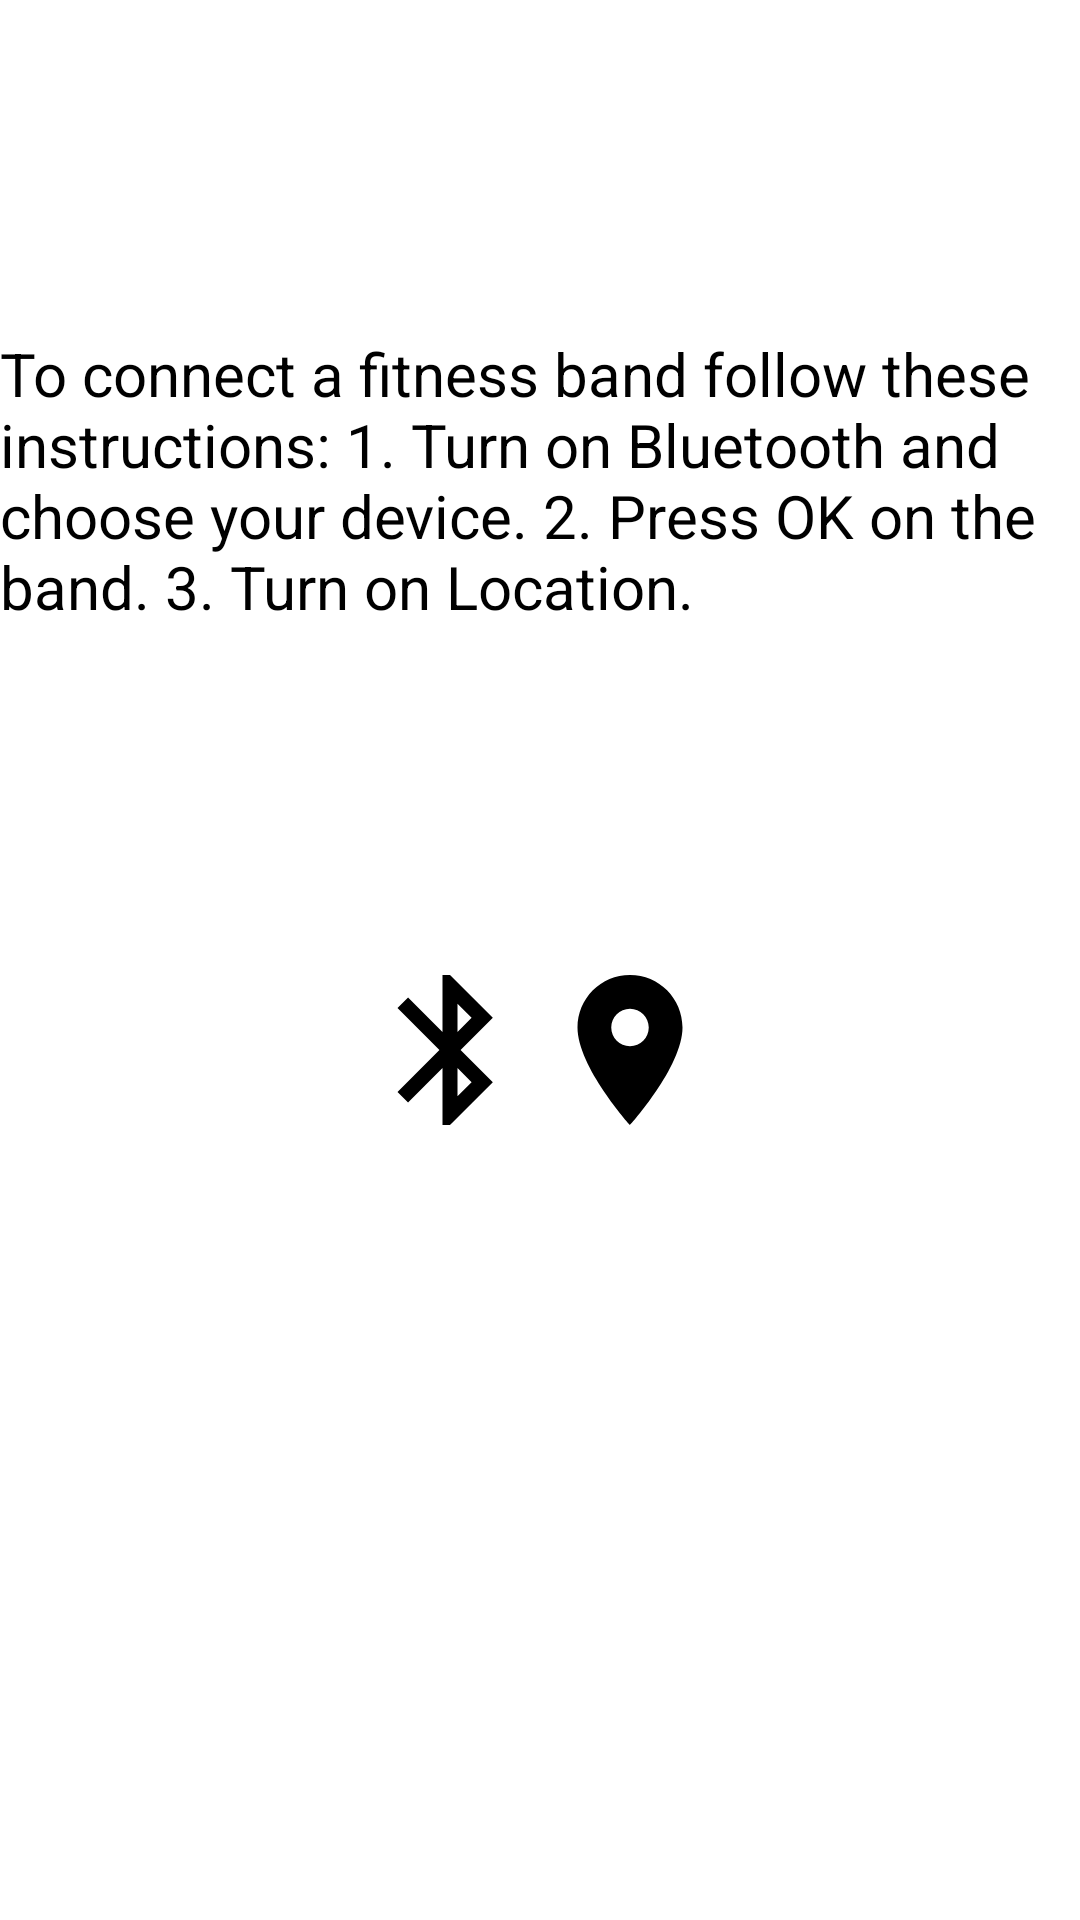

Icons on this 1080*1920 Android screen, each with its box as (x1, y1, x2, y2):
location on: (577, 975, 683, 1125)
